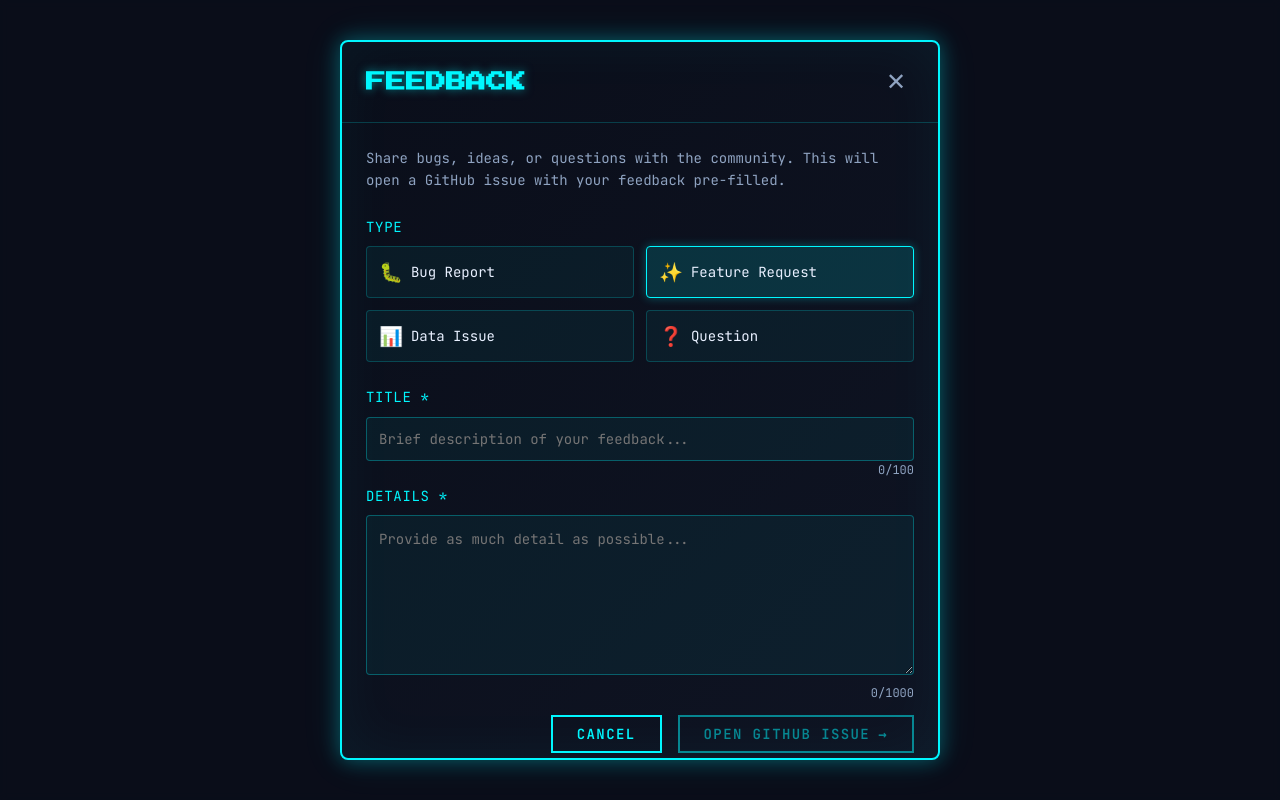
Test: FeedbackModal › enables submit button when form is complete
Type "Test feedback" into the field labelled "Title *".
click(640, 439); type("Test feedback")  # box 366,417 -> 914,461
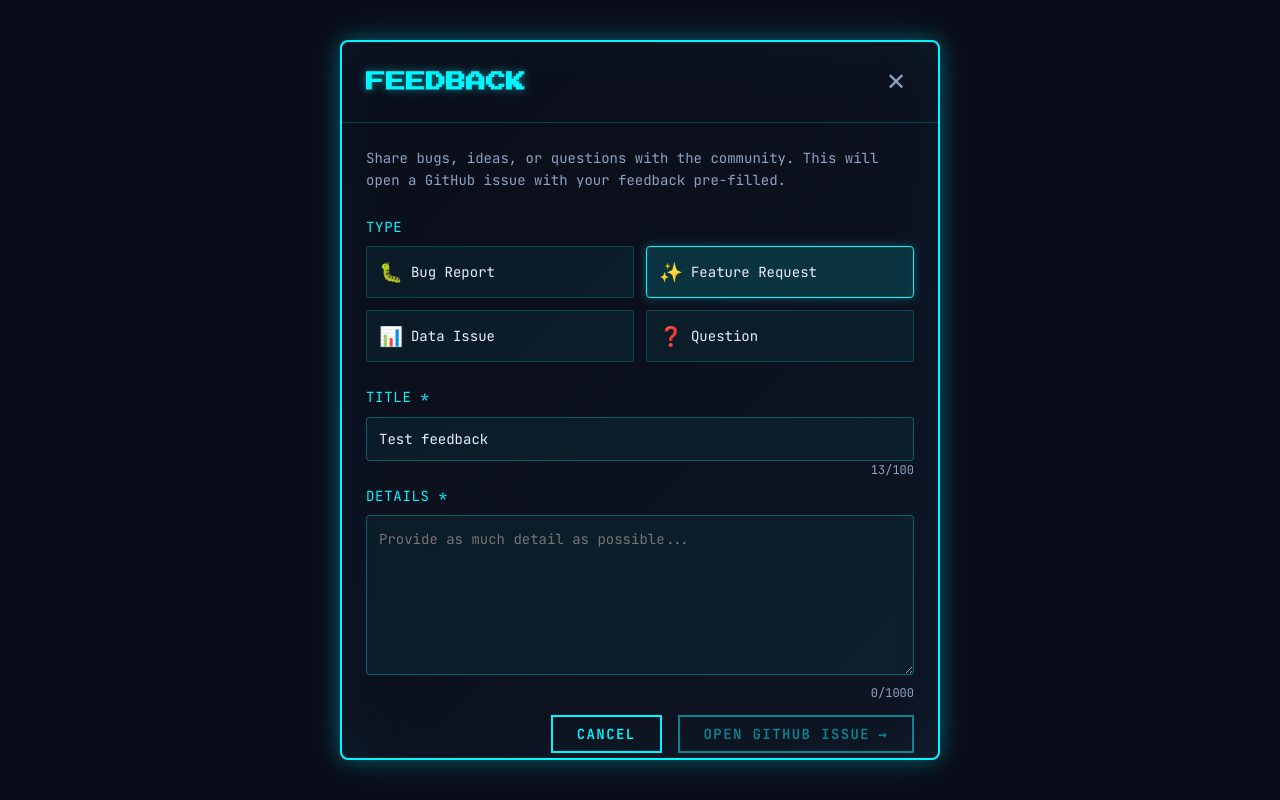
Type "Test description" into the text box labelled "Details *".
click(640, 595); type("Test description")  # box 366,515 -> 914,675
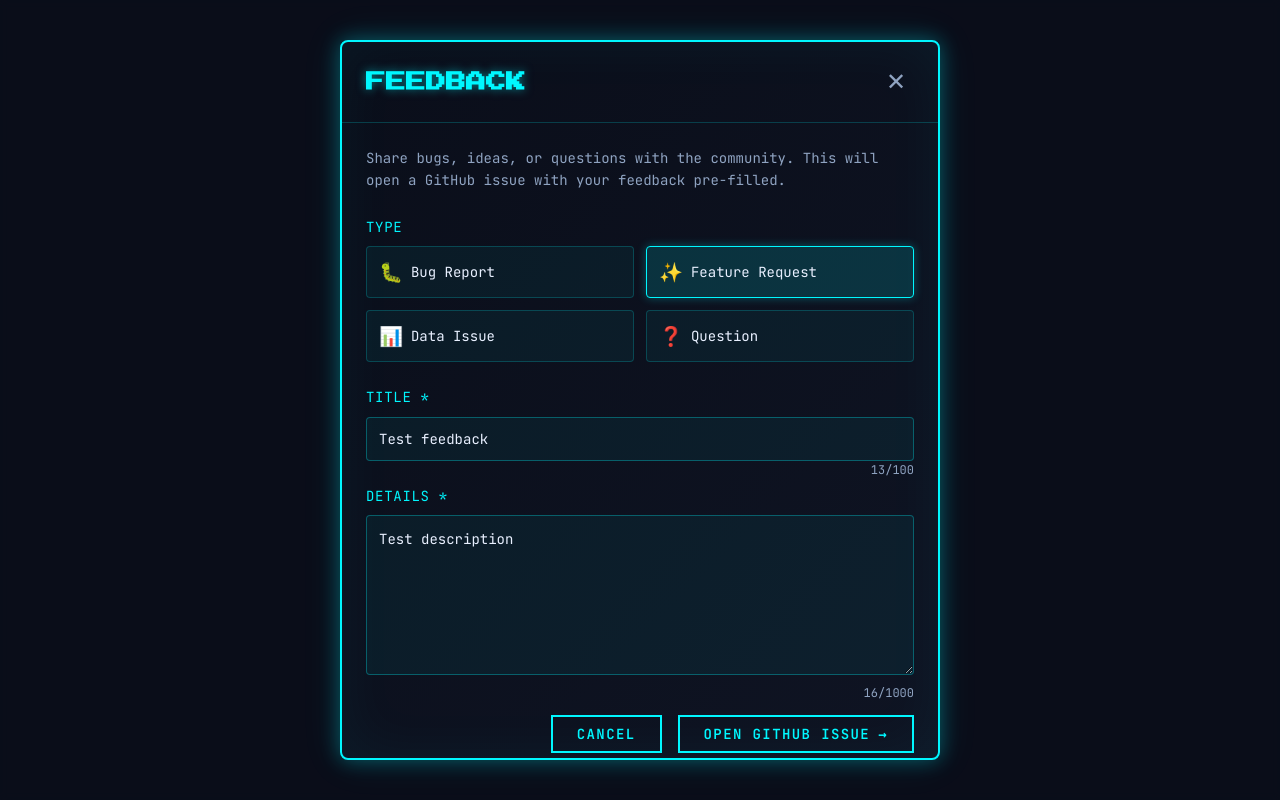
Now the button "OPEN GITHUB ISSUE →" is enabled, box 678,715 -> 914,753
